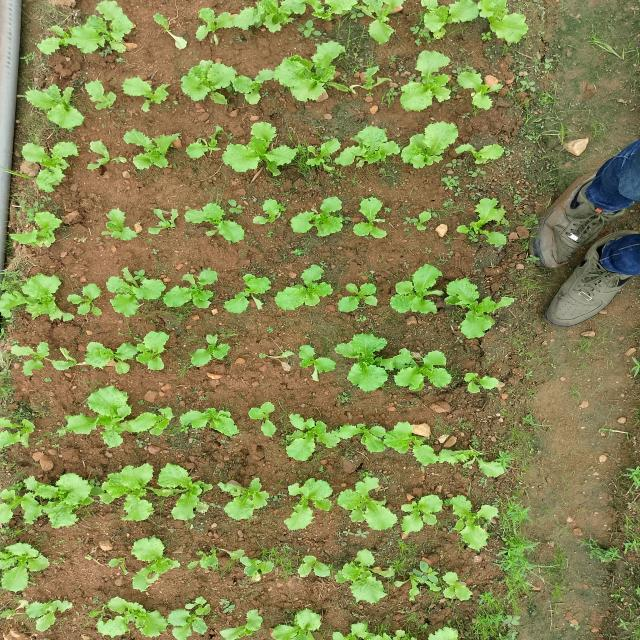Lettuce: (275, 36, 351, 108), (60, 384, 141, 449), (221, 116, 296, 184), (424, 0, 525, 49), (66, 0, 139, 63), (398, 46, 458, 118), (102, 460, 160, 528), (338, 471, 399, 534), (355, 419, 435, 465), (336, 328, 390, 396), (448, 282, 513, 338), (398, 117, 464, 172), (105, 262, 169, 318), (170, 64, 258, 102), (194, 543, 295, 576), (391, 260, 446, 320), (89, 597, 169, 638), (185, 198, 249, 248), (282, 412, 346, 462), (21, 140, 79, 195), (0, 474, 55, 532), (282, 473, 336, 532), (108, 328, 174, 376), (275, 262, 337, 313), (126, 534, 180, 592), (267, 340, 337, 384), (7, 275, 63, 329), (158, 464, 211, 520), (16, 89, 98, 125), (0, 538, 52, 594), (290, 192, 348, 242), (216, 474, 275, 523), (338, 124, 398, 172), (11, 204, 68, 254), (122, 126, 181, 174), (460, 194, 510, 250), (166, 264, 220, 315), (391, 345, 453, 389), (234, 0, 311, 35), (448, 499, 497, 552), (180, 404, 244, 443), (352, 0, 410, 43), (90, 206, 153, 245), (82, 338, 141, 378), (224, 269, 274, 316), (21, 594, 76, 635), (166, 596, 215, 640), (120, 74, 171, 116), (352, 194, 391, 245), (400, 492, 446, 535), (337, 269, 381, 313), (190, 3, 235, 44), (340, 547, 387, 586), (270, 608, 327, 640), (13, 338, 56, 380), (190, 331, 234, 371), (0, 411, 35, 456), (247, 399, 282, 442), (467, 138, 509, 171), (468, 72, 500, 115), (86, 136, 116, 178), (321, 0, 359, 32), (256, 195, 290, 229), (461, 369, 501, 397), (436, 572, 474, 599)
